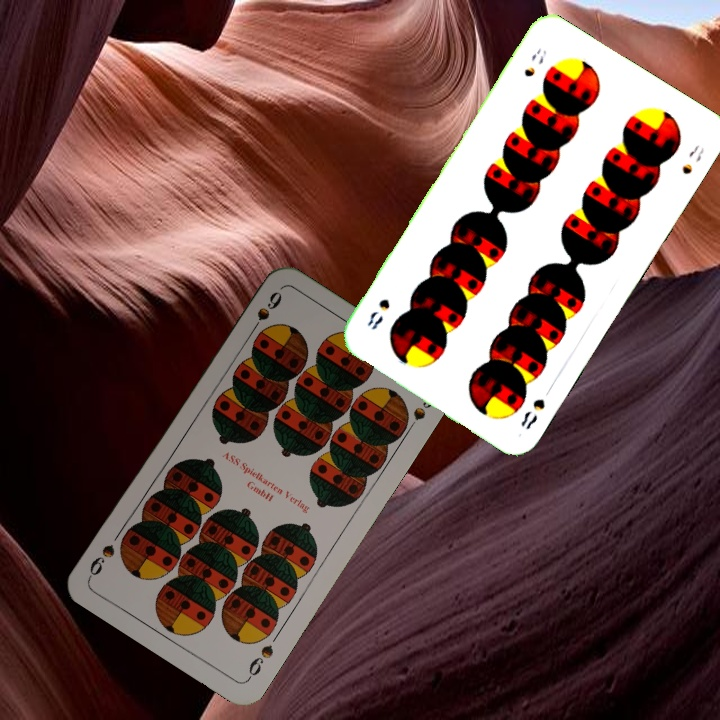S8: (516, 394, 548, 432), (520, 45, 550, 80)
S9: (245, 287, 285, 339), (243, 640, 276, 683)
